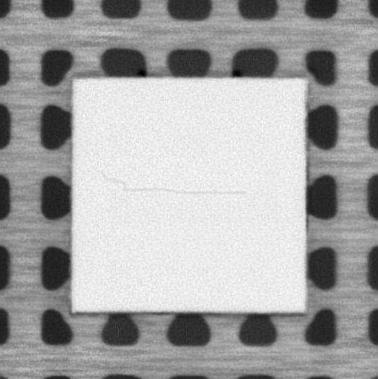DIE_CRACK: (98, 168, 249, 196)
